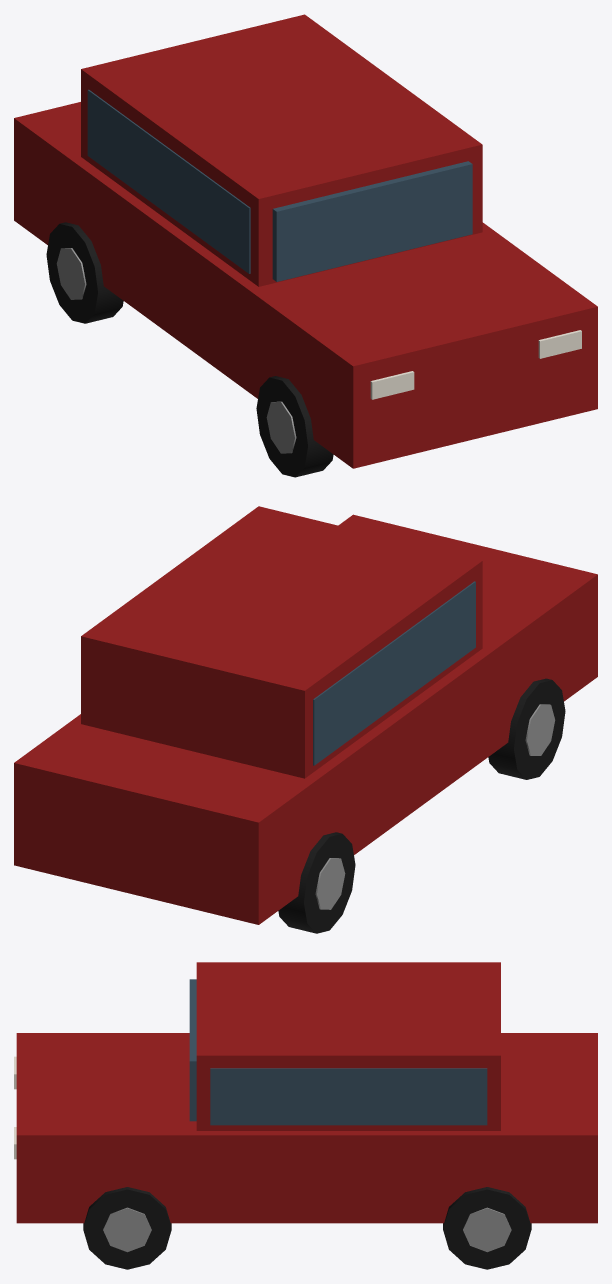
File: car_1.glb
3 renders of one model, top to bottom at view 1: azimuth 30°, elevation 25°; view 2: azimuth 150°, elevation 25°; view 3: azimuth 270°, elevation 25°, orthographic. The views are drawn at different scales.
Parts seen in each view (by area): view 1: car_1, wheel_FL, wheel_RL; view 2: car_1, wheel_RL, wheel_FL; view 3: car_1, wheel_RR, wheel_FR.
Boxes of the visible parts, x1,y1,x2,y2 form: car_1: (14, 14, 597, 468); wheel_FL: (256, 376, 333, 477); wheel_RL: (46, 222, 123, 323); car_1: (14, 506, 597, 924); wheel_RL: (278, 832, 355, 933); wheel_FL: (488, 678, 565, 779); car_1: (14, 962, 597, 1223); wheel_RR: (443, 1187, 531, 1269); wheel_FR: (83, 1187, 171, 1269).
Bounding box in the file's own units: 1.86 × 1.65 × 4.22.
